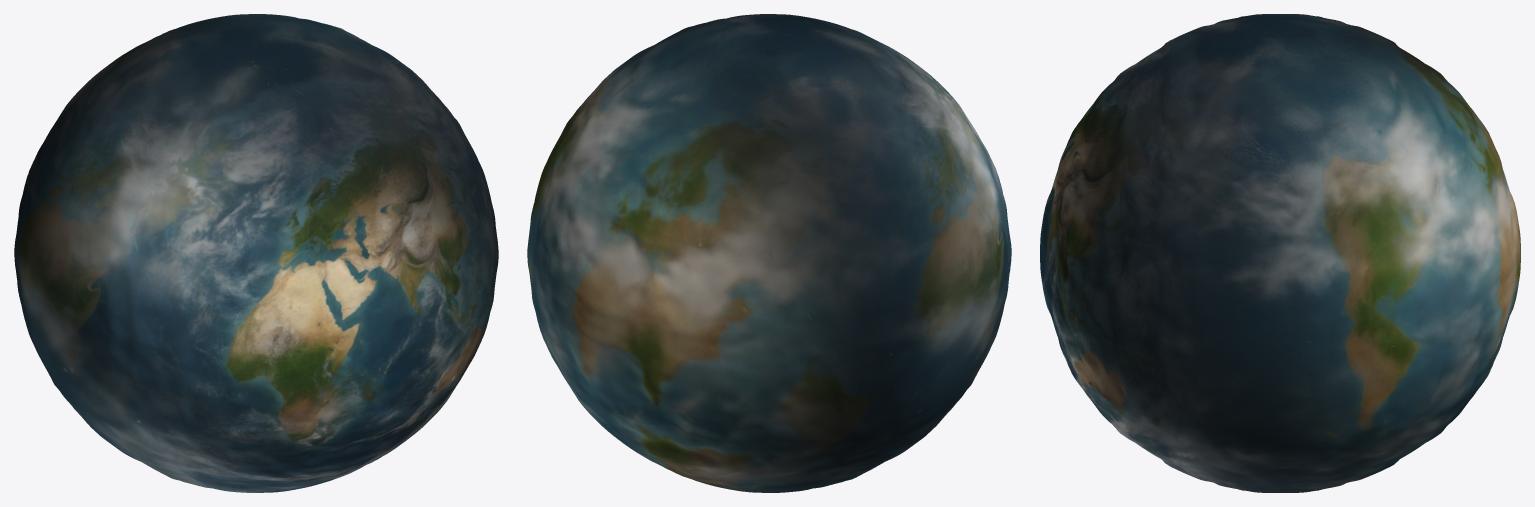
The model's file is earth.glb.
The picture shows the model from 3 angles, left to right: view 1: azimuth 30°, elevation 25°; view 2: azimuth 150°, elevation 25°; view 3: azimuth 270°, elevation 25°; orthographic projection.
Size of the model in its own units: 2 by 1.99 by 2.
1 material, 1 textured.
